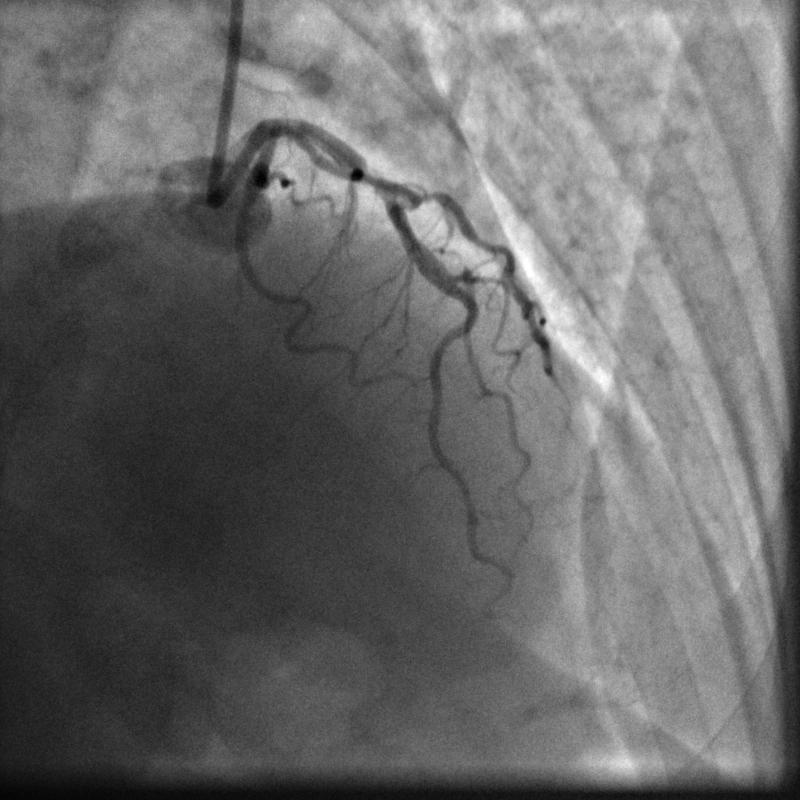Stenosis: (361, 158, 375, 194)
